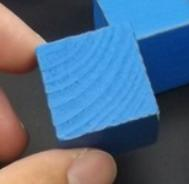bluecube: (34, 21, 159, 155), (94, 0, 189, 95)
